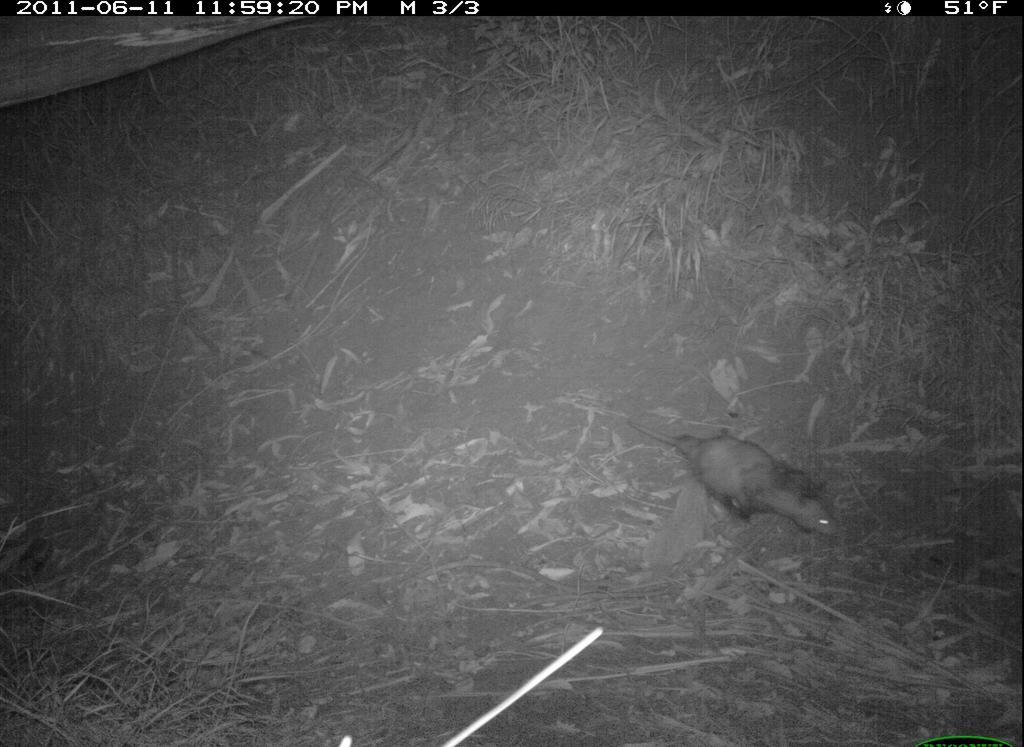opossum: (617, 397, 859, 552)
